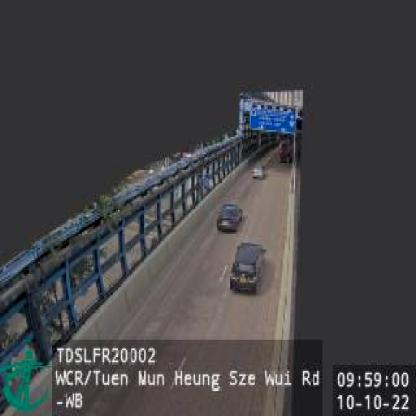Car: (229, 240, 268, 294), (216, 201, 246, 231), (252, 163, 268, 179)
